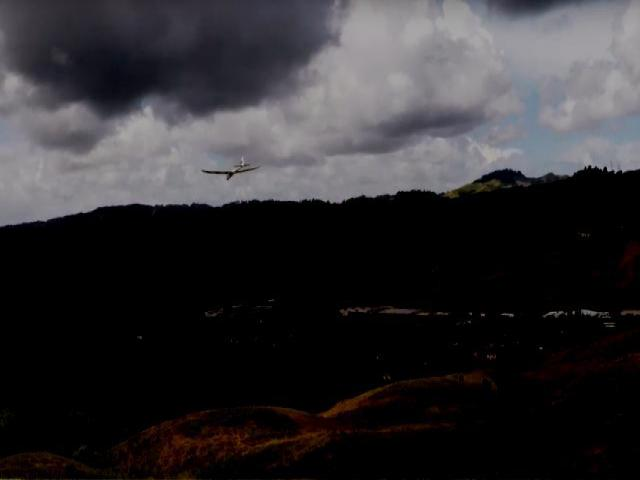iha: (201, 156, 261, 184)
